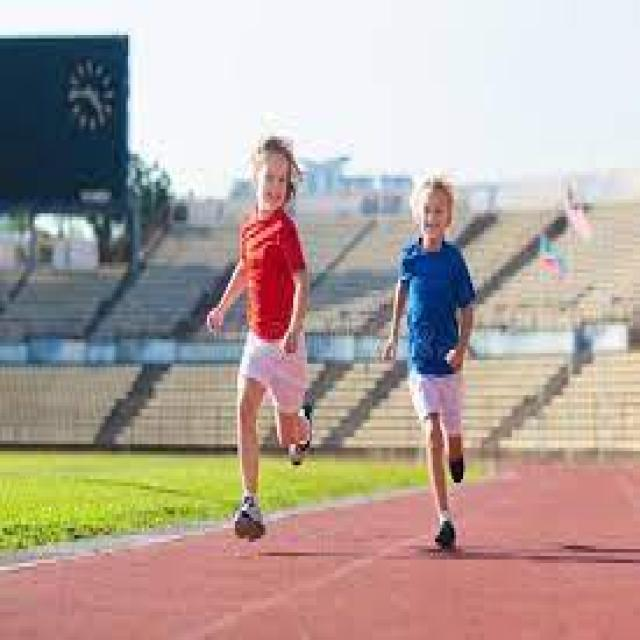Person: (208, 135, 312, 540), (382, 175, 474, 555)
